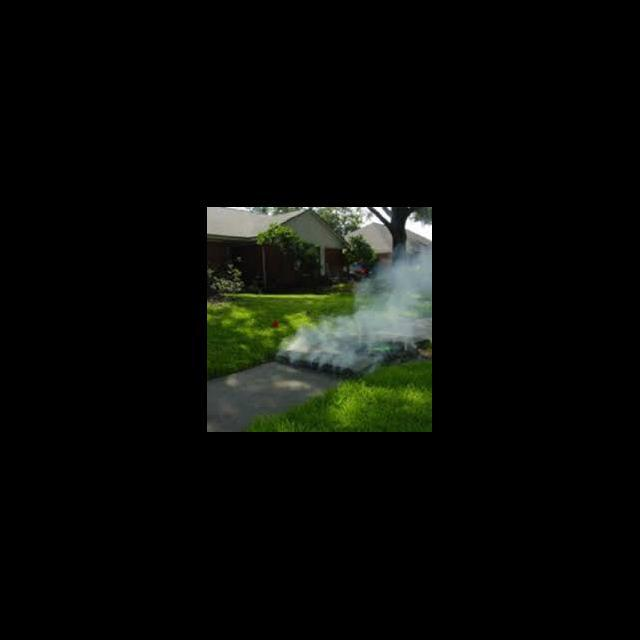Smoke: (278, 246, 432, 368)
